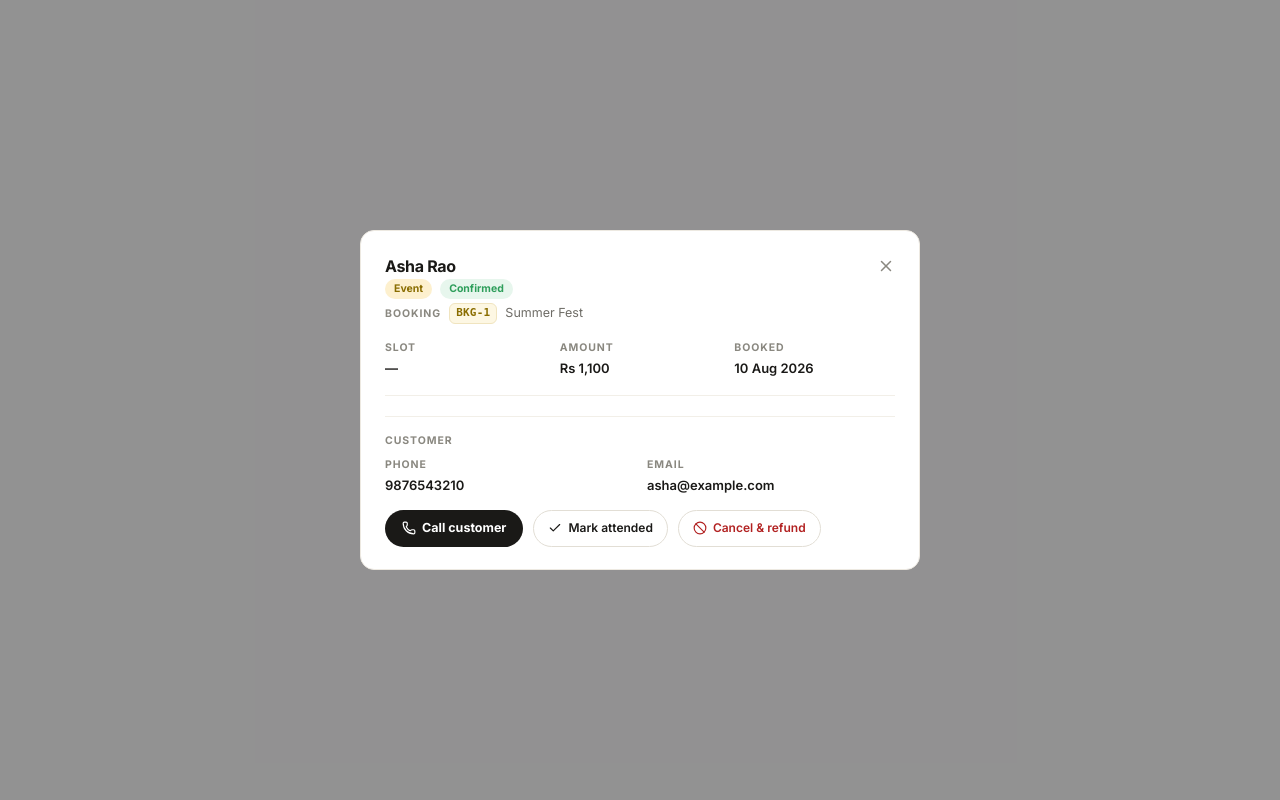
Test: BookingDetailModal — cancel & refund action › requires a reason before confirming cancellation
What coordinates should you click on to do the following:
click the button "Cancel & refund"
I would click on:
 (749, 528)
Its box is x1=678 y1=510 x2=821 y2=547.
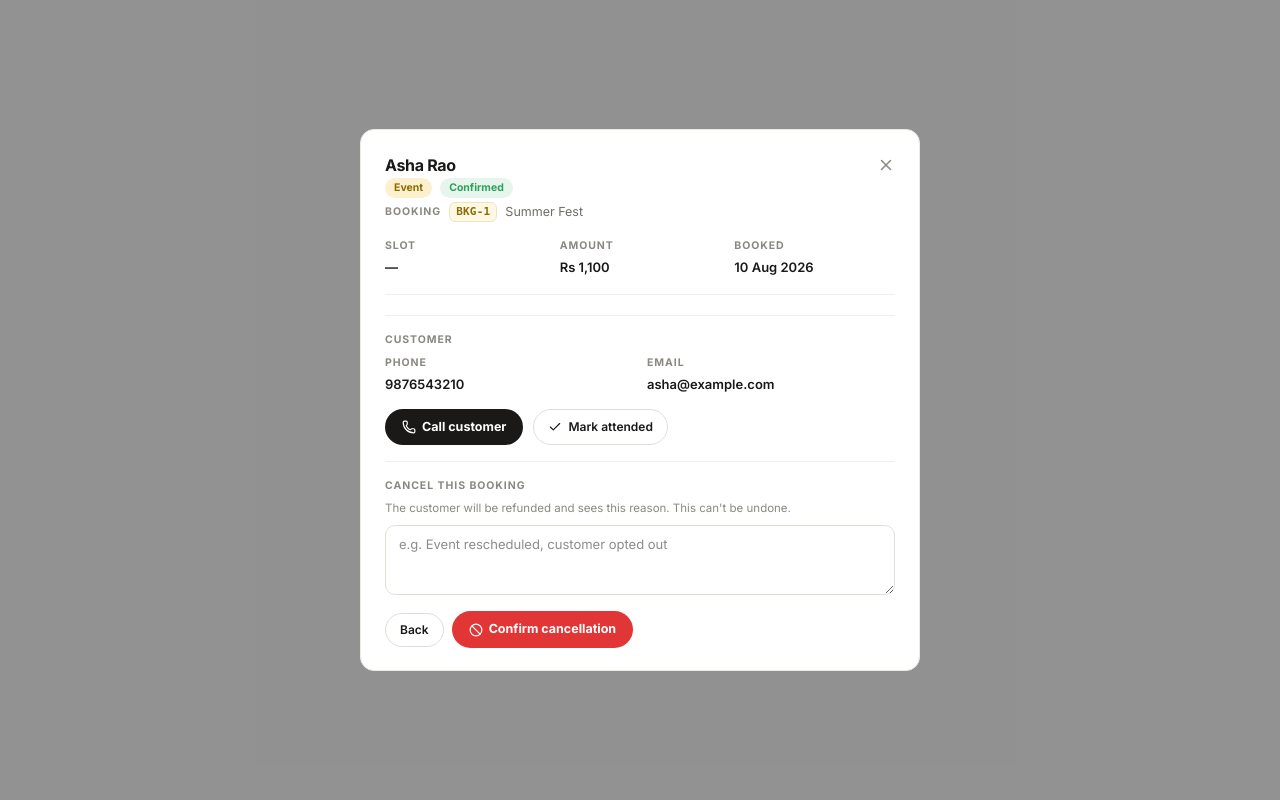
What coordinates should you click on to do the following:
click the button "Confirm cancellation"
I would click on:
 (542, 630)
Its box is x1=452 y1=611 x2=633 y2=648.
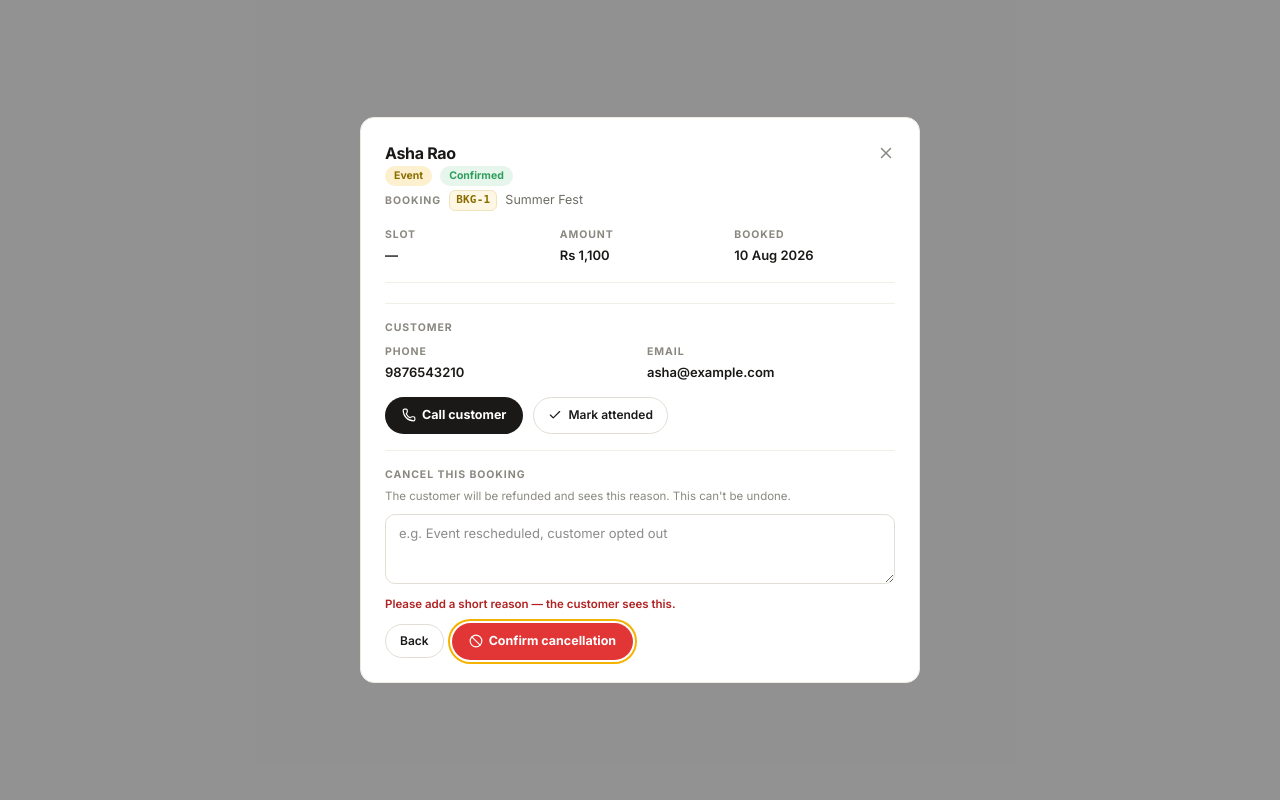
Result: the text "Please add a short reason — the customer sees this." is shown at x1=385 y1=597 x2=676 y2=611
